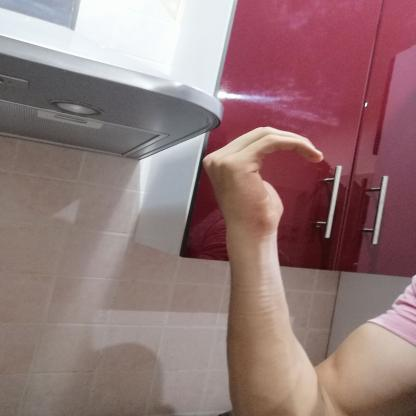HAA: (183, 116, 335, 235)
